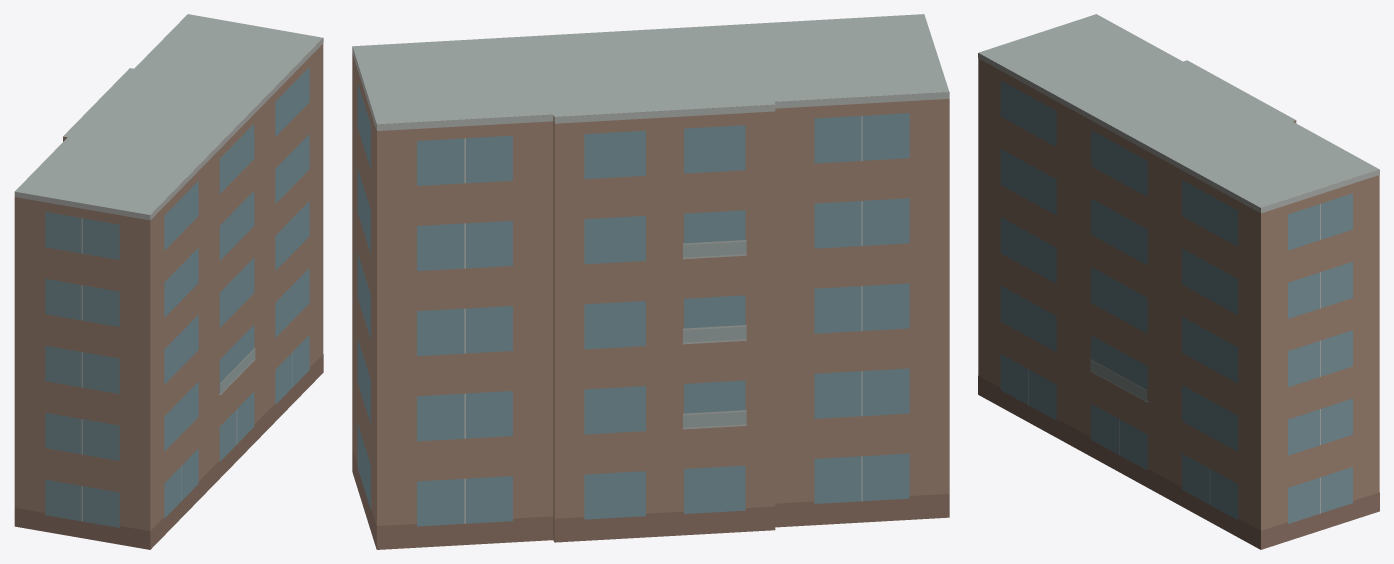
File: survey-upis-32674725.glb
3 views of the same model, side by side, from view 1: azimuth 30°, elevation 25°; view 2: azimuth 150°, elevation 25°; view 3: azimuth 270°, elevation 25° (orthographic). The views are drawn at different scales.
Parts seen in each view (by area): view 1: survey-upis-32674725.tmp; view 2: survey-upis-32674725.tmp; view 3: survey-upis-32674725.tmp.
Boxes of the visible parts, x1,y1,x2,y2 form: survey-upis-32674725.tmp: (14, 14, 323, 549); survey-upis-32674725.tmp: (352, 14, 949, 549); survey-upis-32674725.tmp: (978, 14, 1379, 549).
Bounding box in the file's own units: 18.56 × 15.25 × 16.24.
